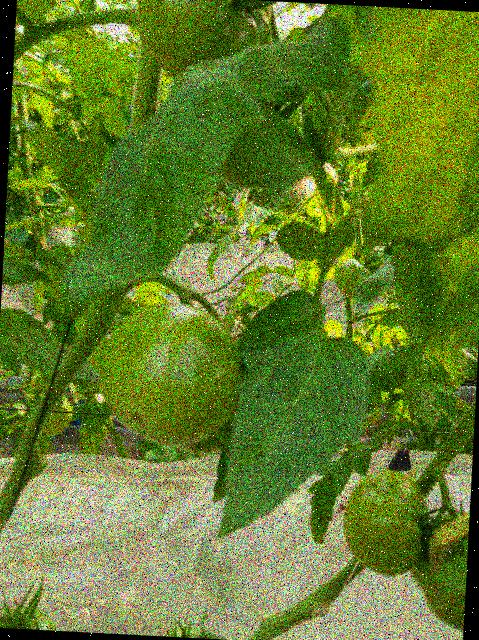b_green: (95, 299, 246, 451), (133, 0, 276, 84), (339, 468, 432, 577), (332, 257, 377, 298), (0, 606, 62, 631), (152, 623, 219, 639)
